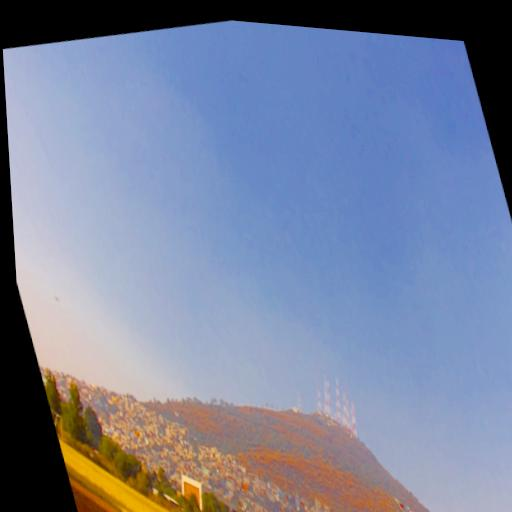drones: (53, 293, 61, 304)
